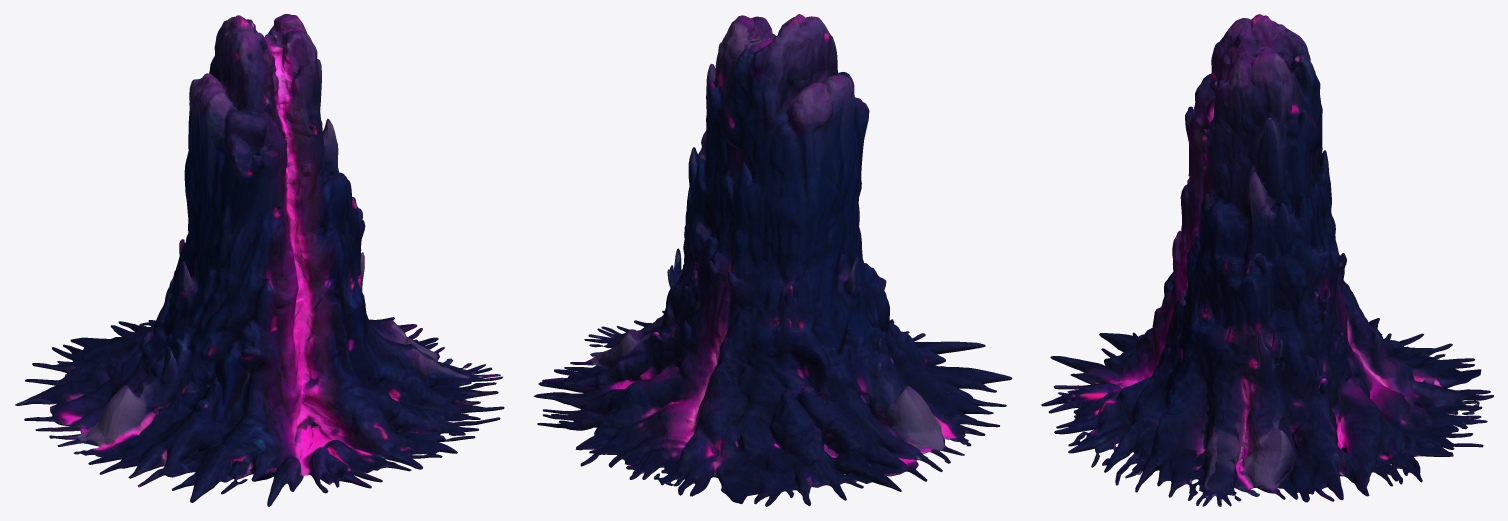
File: root-south-generated-2026-04-19T05-48-05-767Z.high.glb
The picture shows the model from 3 angles, left to right: view 1: azimuth 30°, elevation 25°; view 2: azimuth 150°, elevation 25°; view 3: azimuth 270°, elevation 25°; orthographic projection. The views are drawn at different scales.
Parts seen in each view (by area): view 1: temp_mesh.ply; view 2: temp_mesh.ply; view 3: temp_mesh.ply.
Part boxes in pixels (x1,y1,x2,y2): temp_mesh.ply: [15, 14, 504, 506]; temp_mesh.ply: [534, 14, 1012, 506]; temp_mesh.ply: [1041, 14, 1493, 506].
Bounding box in the file's own units: 1.97 × 1.83 × 1.96.
1 material, 1 textured.
